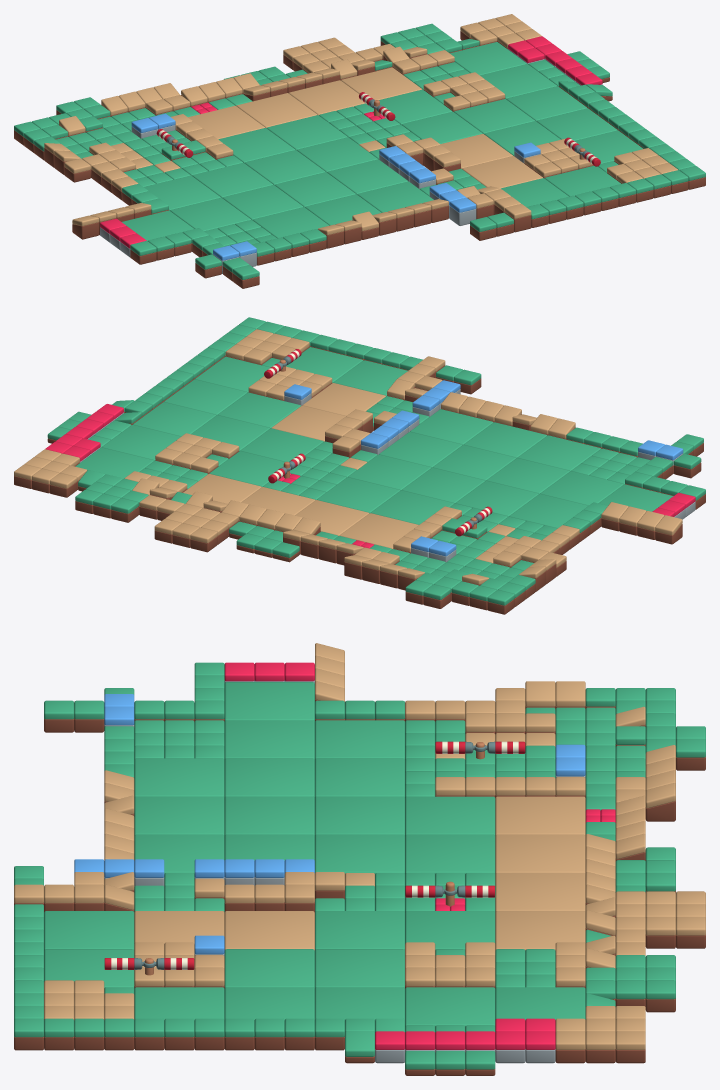
3 renders of one model, top to bottom at view 1: azimuth 30°, elevation 25°; view 2: azimuth 150°, elevation 25°; view 3: azimuth 270°, elevation 25°, orthographic. The views are drawn at different scales.
Parts seen in each view (by area): view 1: tileLarge_forest.002, tileLarge_forest, tileLarge_forest.001, tileLarge_desert.001, tileMedium_desert.024, tileSlopeMediumHigh_desert.001, tileLarge_desert, tileMedium_desert.023, tileSlopeMediumHigh_desert, tileLow_forest, tileMedium_desert.027, tileMedium_desert.002 (+43 smaller); view 2: tileLarge_forest.002, tileLarge_forest, tileLarge_forest.001, tileLarge_desert.001, tileSlopeMediumHigh_desert.001, tileLarge_desert, tileMedium_desert.024, tileMedium_desert.023, tileMedium_desert.002, tileSlopeMediumHigh_desert, tileLow_forest, tileMedium_desert.003 (+45 smaller); view 3: tileLarge_forest.002, tileLarge_forest, tileLarge_forest.001, tileLarge_desert.001, tileMedium_desert.023, tileLarge_desert, tileMedium_teamRed.001, tileMedium_desert.002, tileLow_forest, tileMedium_desert.003, tileMedium_desert.004, tileMedium_desert.024 (+55 smaller).
Part boxes in pixels (left/top/right/bottom): tileLarge_forest.002: left=144, top=115, right=433, bottom=238; tileLarge_forest: left=379, top=42, right=587, bottom=143; tileLarge_forest.001: left=484, top=108, right=643, bottom=206; tileLarge_desert.001: left=188, top=67, right=422, bottom=139; tileMedium_desert.024: left=470, top=170, right=688, bottom=240; tileSlopeMediumHigh_desert.001: left=318, top=186, right=500, bottom=248; tileLarge_desert: left=440, top=134, right=542, bottom=188; tileMedium_desert.023: left=568, top=84, right=705, bottom=189; tileSlopeMediumHigh_desert: left=243, top=46, right=427, bottom=101; tileLow_forest: left=319, top=103, right=420, bottom=159; tileMedium_desert.027: left=195, top=229, right=326, bottom=278; tileMedium_desert.002: left=283, top=37, right=364, bottom=73; tileLarge_forest.002: left=317, top=409, right=623, bottom=528; tileLarge_forest: left=75, top=402, right=323, bottom=486; tileLarge_forest.001: left=164, top=347, right=407, bottom=428; tileLarge_desert.001: left=183, top=473, right=418, bottom=549; tileSlopeMediumHigh_desert.001: left=387, top=379, right=575, bottom=439; tileLarge_desert: left=271, top=383, right=385, bottom=441; tileMedium_desert.024: left=257, top=321, right=481, bottom=394; tileMedium_desert.023: left=125, top=317, right=265, bottom=417; tileMedium_desert.002: left=154, top=503, right=238, bottom=552; tileSlopeMediumHigh_desert: left=132, top=478, right=320, bottom=535; tileLow_forest: left=263, top=441, right=377, bottom=499; tileMedium_desert.003: left=75, top=474, right=148, bottom=522; tileLarge_forest.002: left=134, top=720, right=495, bottom=874; tileLarge_forest: left=315, top=911, right=585, bottom=1026; tileLarge_forest.001: left=44, top=911, right=314, bottom=1020; tileLarge_desert.001: left=495, top=796, right=585, bottom=950; tileMedium_desert.023: left=14, top=1018, right=374, bottom=1050; tileLarge_desert: left=134, top=911, right=314, bottom=950; tileMedium_teamRed.001: left=375, top=1031, right=555, bottom=1063; tileMedium_desert.002: left=615, top=891, right=705, bottom=948; tileLow_forest: left=315, top=873, right=495, bottom=912; tileMedium_desert.003: left=585, top=955, right=675, bottom=1012; tileMedium_desert.004: left=555, top=1018, right=645, bottom=1063; tileMedium_desert.024: left=14, top=866, right=43, bottom=1019.
Size of the model in its own units: 64 by 2.6 by 46.
Materials: 8 (1 with a texture image).
